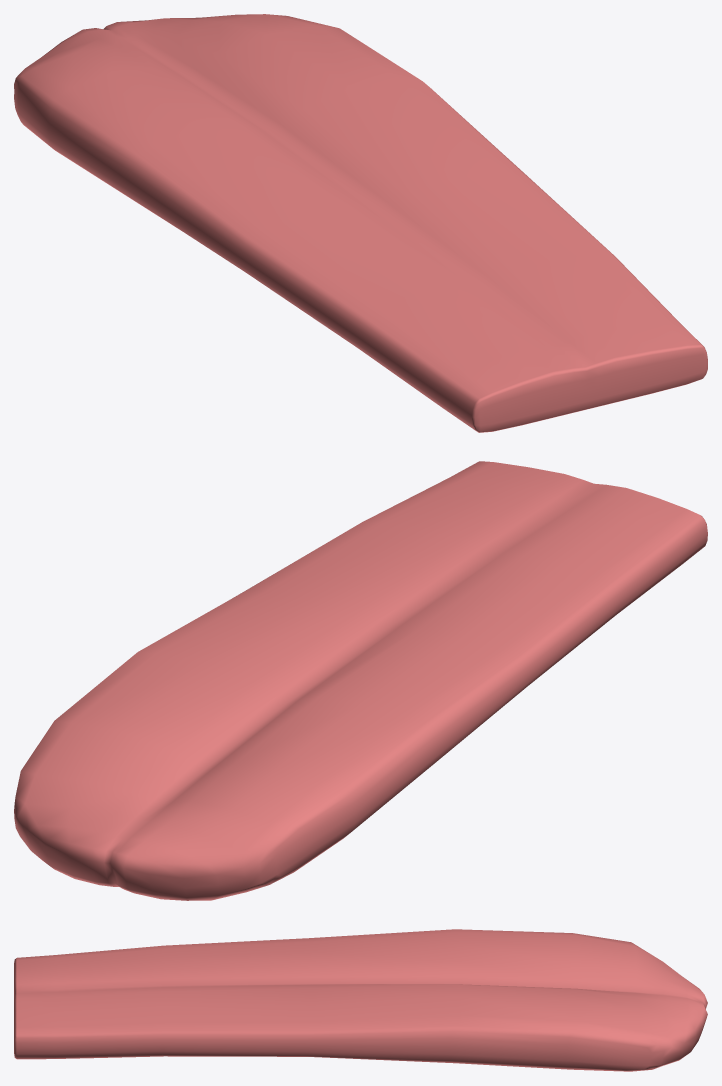
Rendered from tounge.fbx.
3 views of the same model, one above another, from view 1: azimuth 30°, elevation 25°; view 2: azimuth 150°, elevation 25°; view 3: azimuth 270°, elevation 25° (orthographic). The views are drawn at different scales.
Parts seen in each view (by area): view 1: pCube1; view 2: pCube1; view 3: pCube1.
Boxes of the visible parts, box(x1,y1,x2,y2) form: pCube1: box(14, 14, 707, 432); pCube1: box(14, 461, 707, 900); pCube1: box(14, 929, 707, 1071).
Bounding box in the file's own units: 1.43 × 0.4024 × 3.97.
